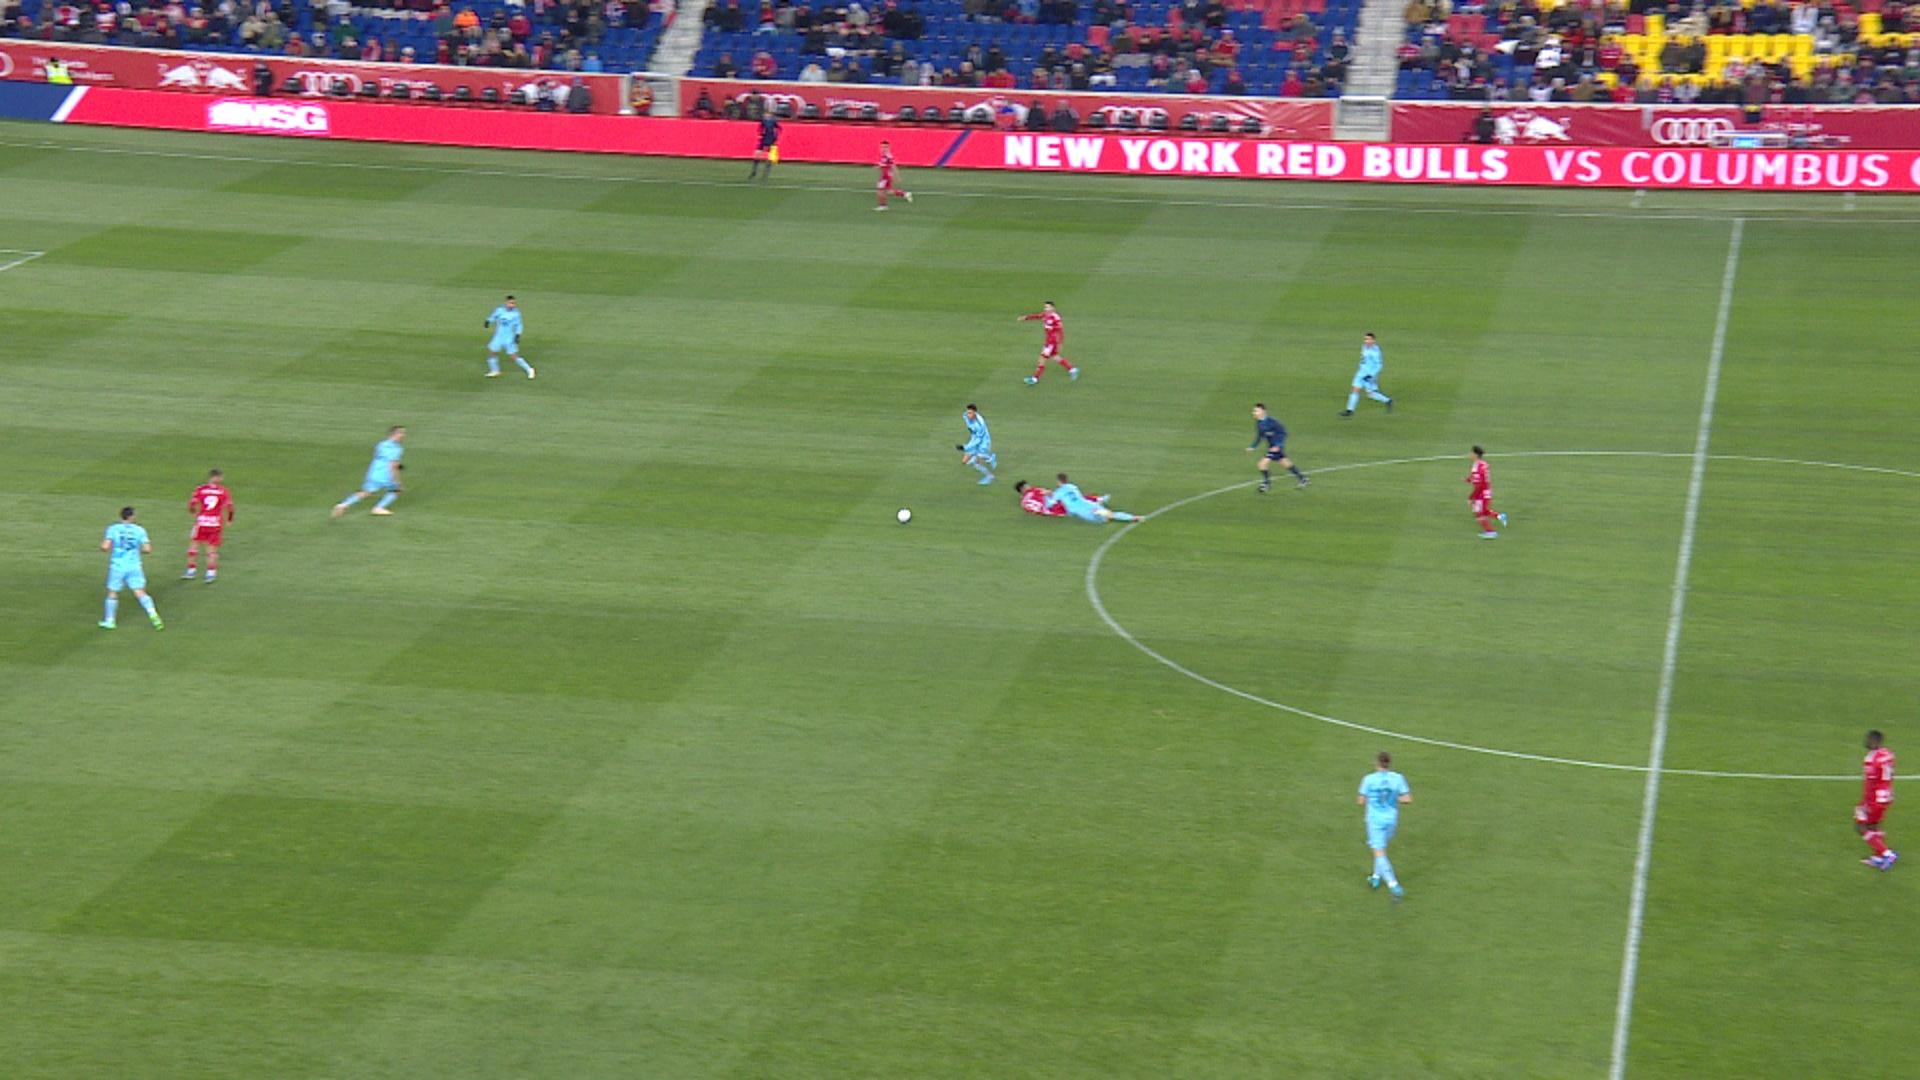football: (897, 506, 911, 524)
